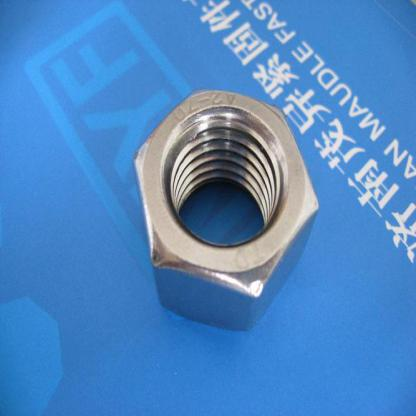FOD: (130, 85, 322, 340)
